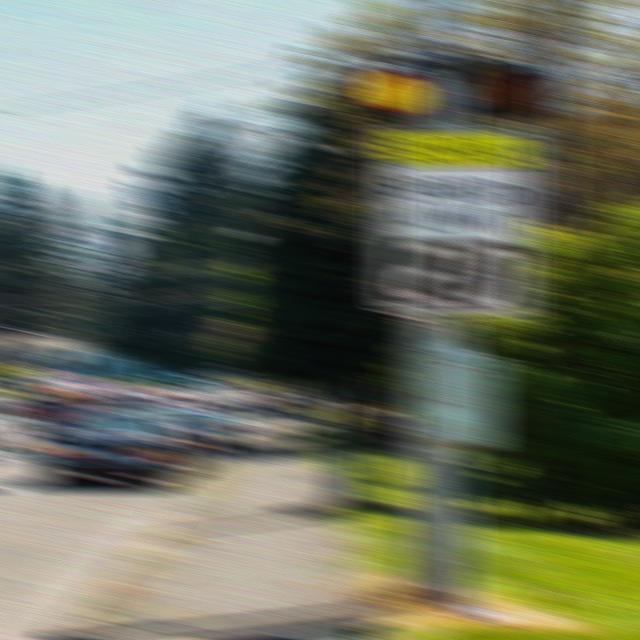speedLimit20: (375, 162, 533, 318)
